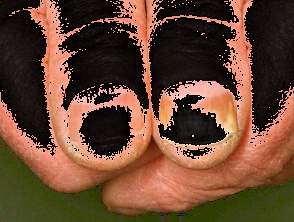Nail_psoriasis: (45, 69, 159, 175), (150, 72, 248, 170), (102, 204, 163, 220)
